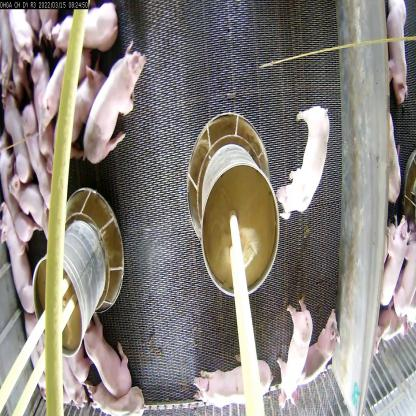Pig: (82, 44, 146, 162), (276, 105, 334, 230), (75, 304, 137, 398), (182, 345, 268, 412), (267, 280, 308, 413), (17, 102, 61, 216), (0, 198, 31, 326), (50, 12, 133, 56), (4, 168, 51, 235), (35, 49, 77, 117), (382, 214, 410, 316), (64, 68, 104, 138), (301, 320, 339, 385), (86, 385, 150, 415)
